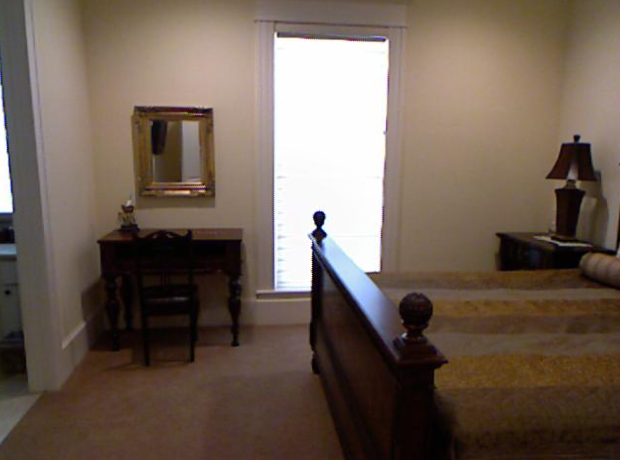cabinet: (494, 232, 580, 269)
chair: (132, 230, 195, 364)
table: (101, 226, 241, 351)
window: (273, 30, 384, 215)
